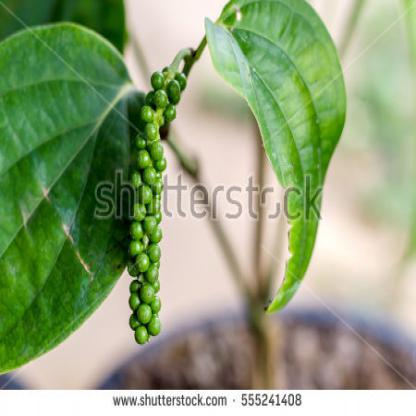bell pepper leaf: (1, 24, 159, 370), (205, 1, 348, 324)
